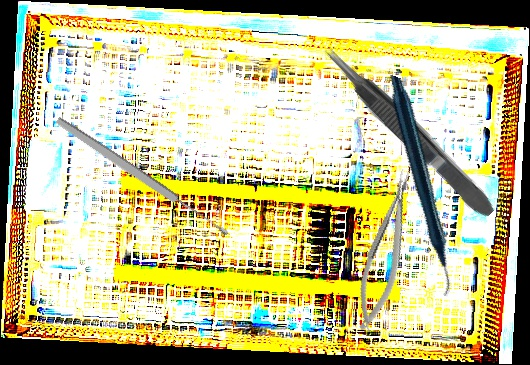Handpiece: (320, 74, 517, 297)
Needle Holder: (345, 166, 428, 336)
Surgical Spoon: (54, 114, 231, 240)
Tissue Forceps: (317, 38, 499, 226)
